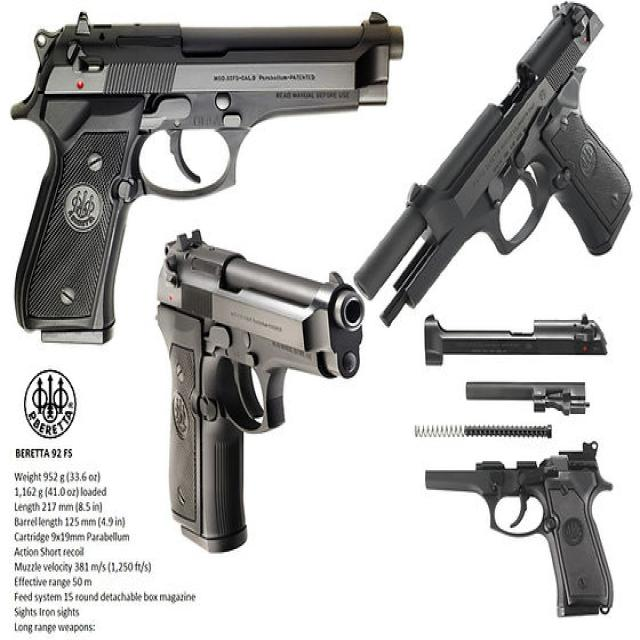Gun: (10, 11, 402, 346), (357, 0, 638, 313), (140, 221, 368, 550), (414, 447, 640, 640)
